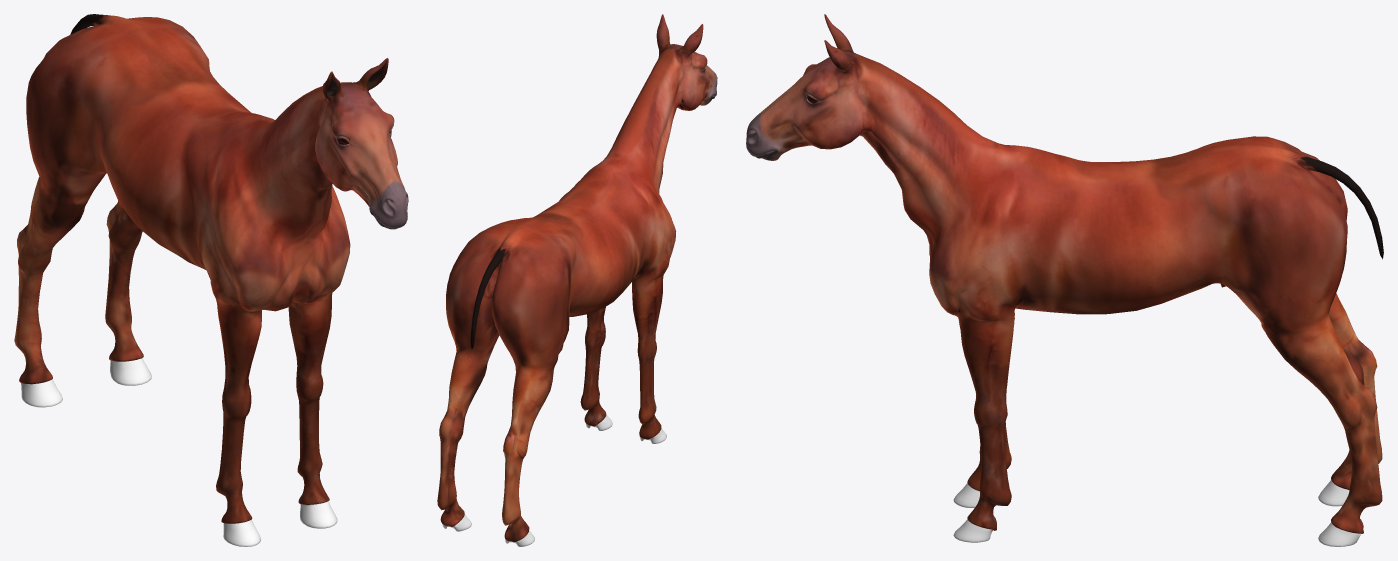
Rendered from model-horse.glb.
3 views of the same model, side by side, from view 1: azimuth 30°, elevation 25°; view 2: azimuth 150°, elevation 25°; view 3: azimuth 270°, elevation 25° (orthographic). The views are drawn at different scales.
Visible parts, largest first — view 1: horse; view 2: horse; view 3: horse.
Boxes of the visible parts, x1,y1,x2,y2 form: horse: (14,14,408,546); horse: (437,14,717,546); horse: (746,14,1383,546).
Size of what is drawn, in the model's own units: 0.6465 by 2.09 by 2.45.
5 materials, 2 textured.
